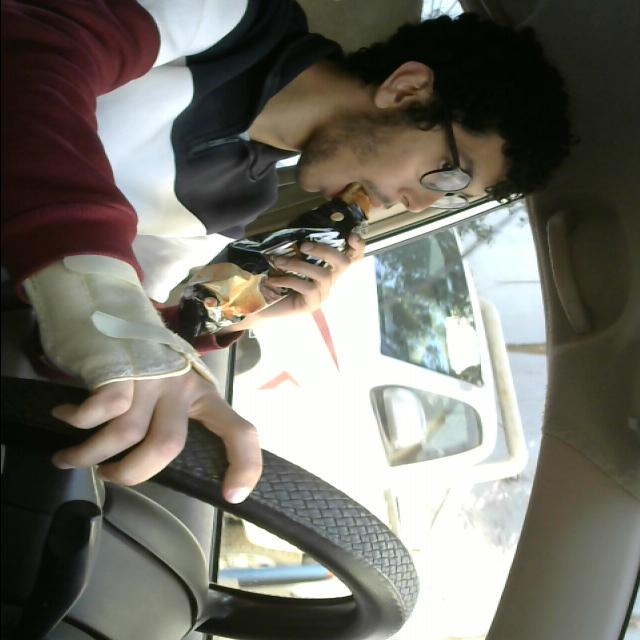eating: (138, 174, 380, 370)
